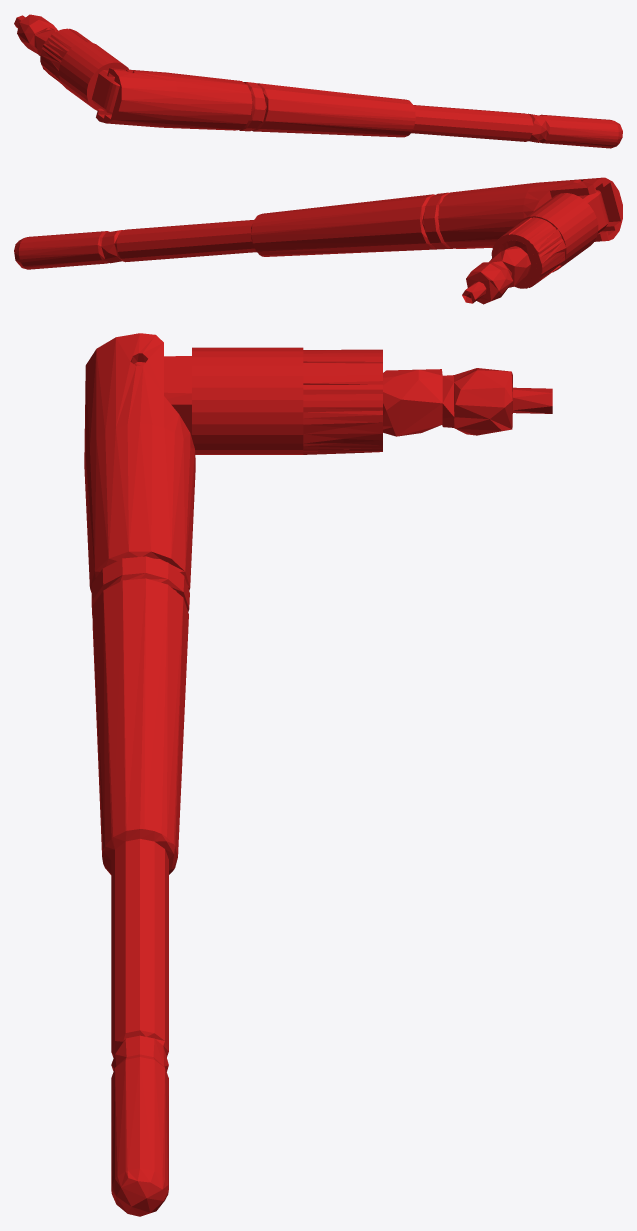
The model's file is base_antena_link.obj.
3 renders of one model, top to bottom at view 1: azimuth 30°, elevation 25°; view 2: azimuth 150°, elevation 25°; view 3: azimuth 270°, elevation 25°, orthographic. The views are drawn at different scales.
Parts seen in each view (by area): view 1: base_antena_link; view 2: base_antena_link; view 3: base_antena_link.
Part boxes in pixels (x1,y1,x2,y2): base_antena_link: [14, 14, 622, 148]; base_antena_link: [14, 177, 622, 304]; base_antena_link: [84, 333, 552, 1216].
Bounding box in the file's own units: 0.1513 × 0.0549 × 0.0588.
